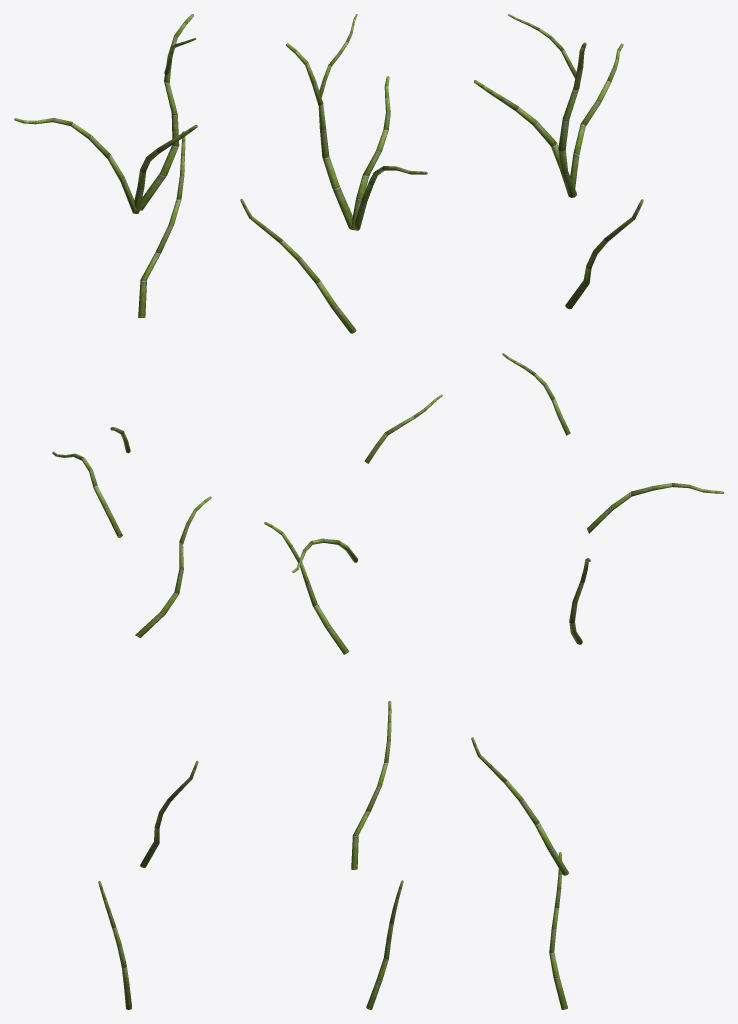
The model's file is BambooSet_part_17.fbx.
3 views of the same model, side by side, from view 1: azimuth 30°, elevation 25°; view 2: azimuth 150°, elevation 25°; view 3: azimuth 270°, elevation 25° (orthographic). The views are drawn at different scales.
Visible parts, largest first — view 1: Object_39.001; view 2: Object_39.001; view 3: Object_39.001.
Boxes of the visible parts, box(x1,y1,x2,y2) form: Object_39.001: box(14, 14, 211, 1009); Object_39.001: box(240, 14, 442, 1009); Object_39.001: box(471, 14, 723, 1009).
Size of the model in its own units: 525 by 2715 by 612.
